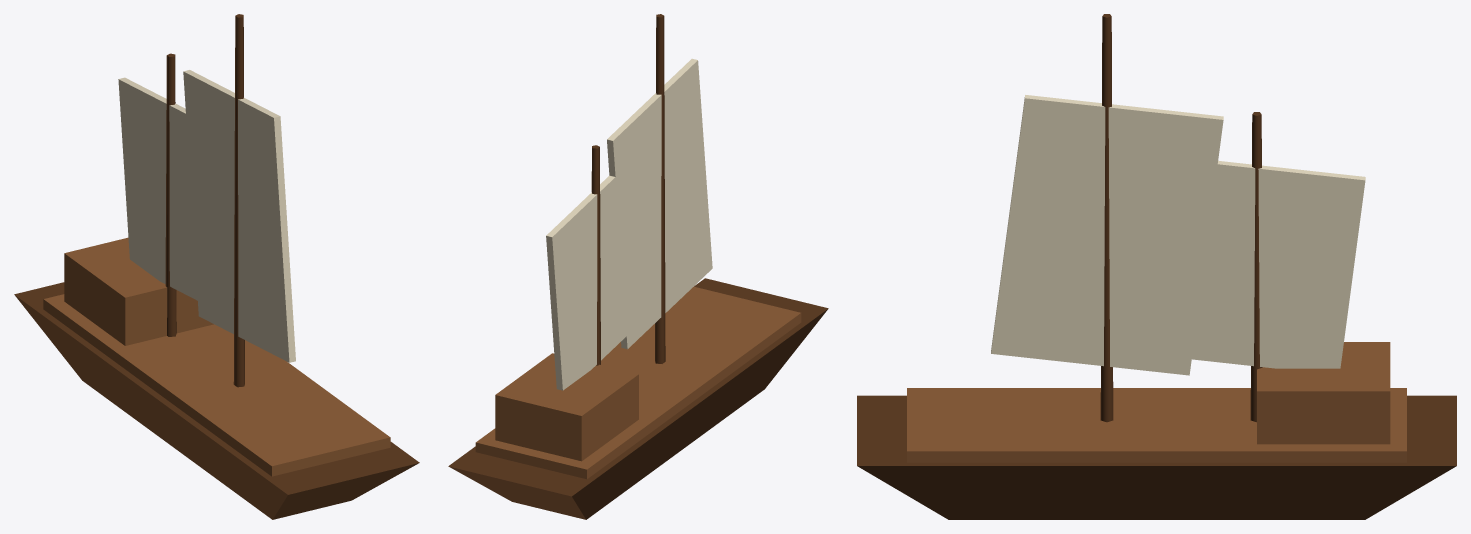
The model's file is vehicle_jong.glb.
3 renders of one model, left to right at view 1: azimuth 30°, elevation 25°; view 2: azimuth 150°, elevation 25°; view 3: azimuth 270°, elevation 25°, orthographic. The views are drawn at different scales.
Visible parts, largest first — view 1: vehicle_jong; view 2: vehicle_jong; view 3: vehicle_jong.
Part boxes in pixels (left/top/right/bottom): vehicle_jong: left=14, top=14, right=419, bottom=519; vehicle_jong: left=448, top=14, right=828, bottom=519; vehicle_jong: left=857, top=14, right=1456, bottom=519.
Bounding box in the file's own units: 0.2 × 0.64 × 0.72.
